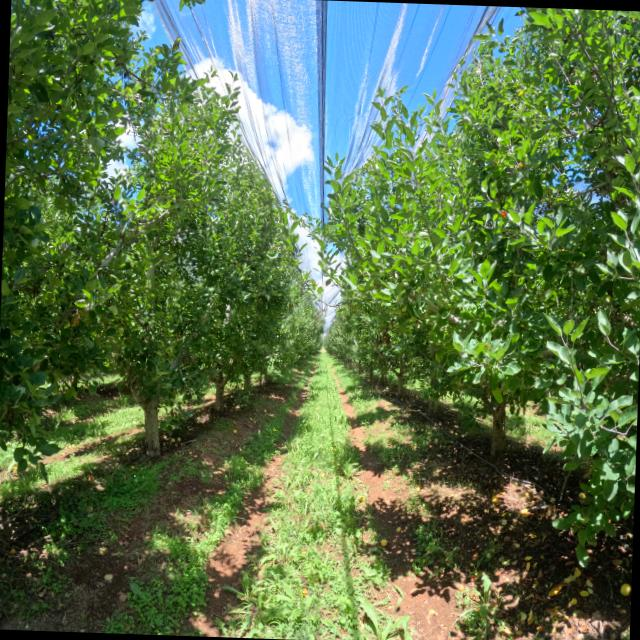-FireBlight-: (375, 318, 394, 347)
